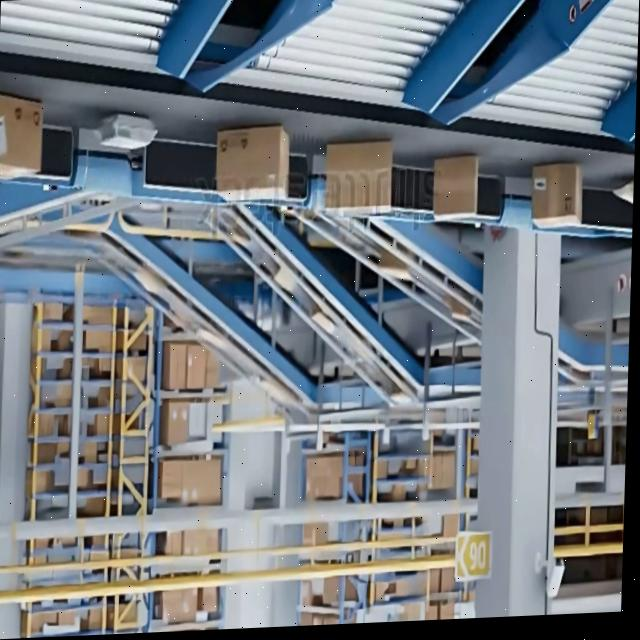product 1: (214, 123, 291, 204), (323, 139, 393, 216), (431, 153, 479, 220), (530, 161, 572, 229)
